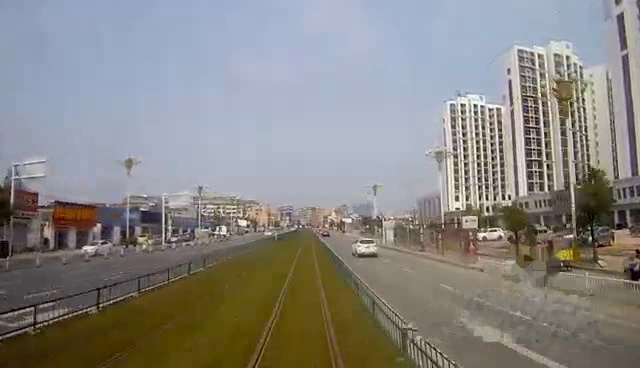car: (81, 238, 118, 260), (349, 238, 383, 258)
